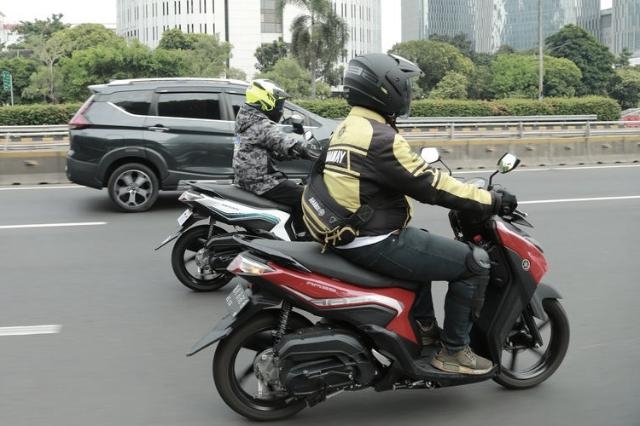helm: (342, 50, 425, 126), (246, 79, 294, 123)
motor: (182, 145, 570, 426), (152, 168, 333, 297)
